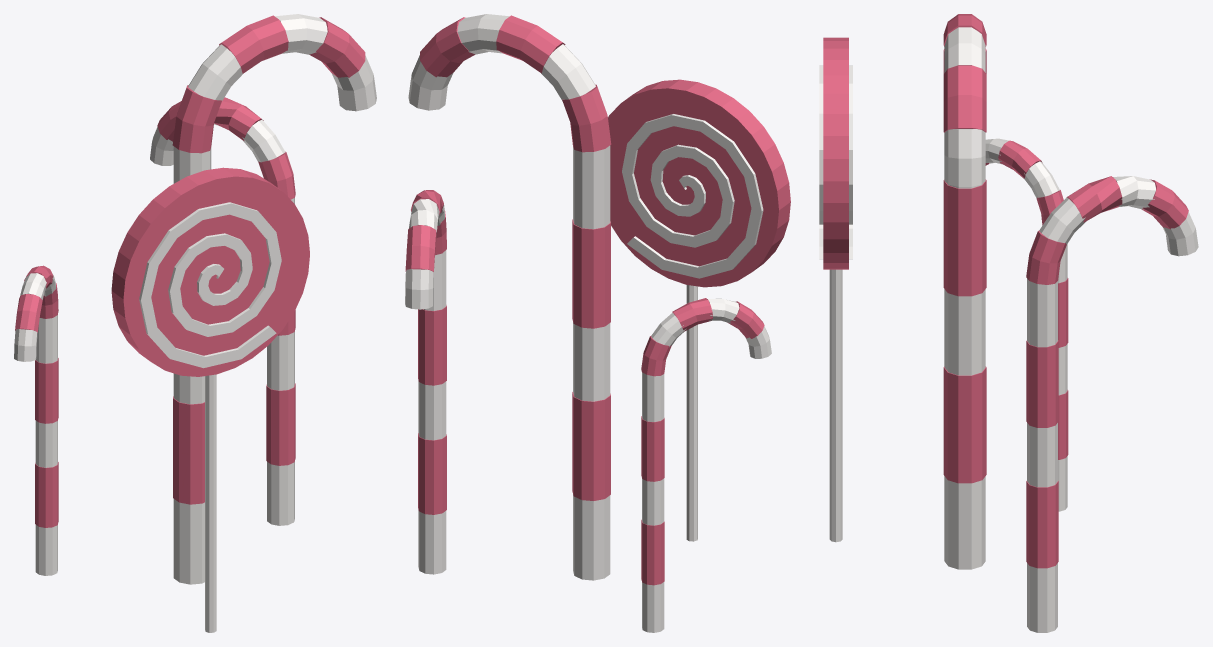
File: HOB_CandyCanes.fbx
3 views of the same model, side by side, from view 1: azimuth 30°, elevation 25°; view 2: azimuth 150°, elevation 25°; view 3: azimuth 270°, elevation 25° (orthographic). The views are drawn at different scales.
Parts seen in each view (by area): view 1: HOB_CandyCanes; view 2: HOB_CandyCanes; view 3: HOB_CandyCanes.
Part boxes in pixels (x1,y1,x2,y2): HOB_CandyCanes: (14,14,376,632); HOB_CandyCanes: (405,14,790,632); HOB_CandyCanes: (819,14,1198,632).
Size of the model in its own units: 173 by 248 by 147.
